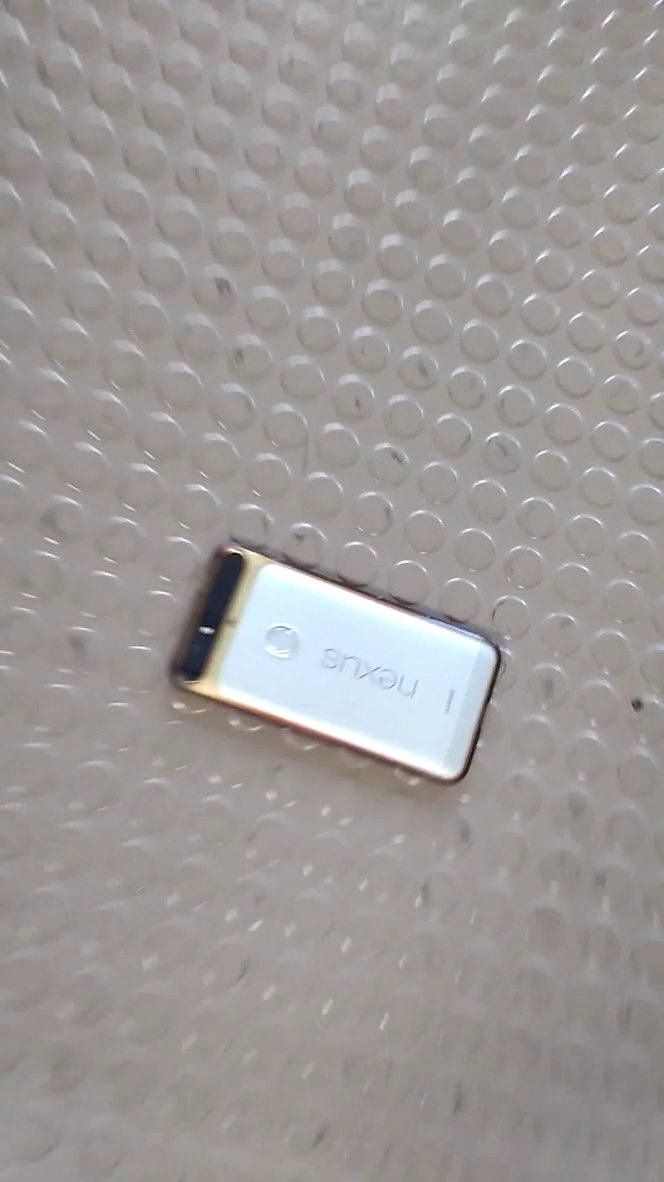phone: (149, 525, 505, 805)
